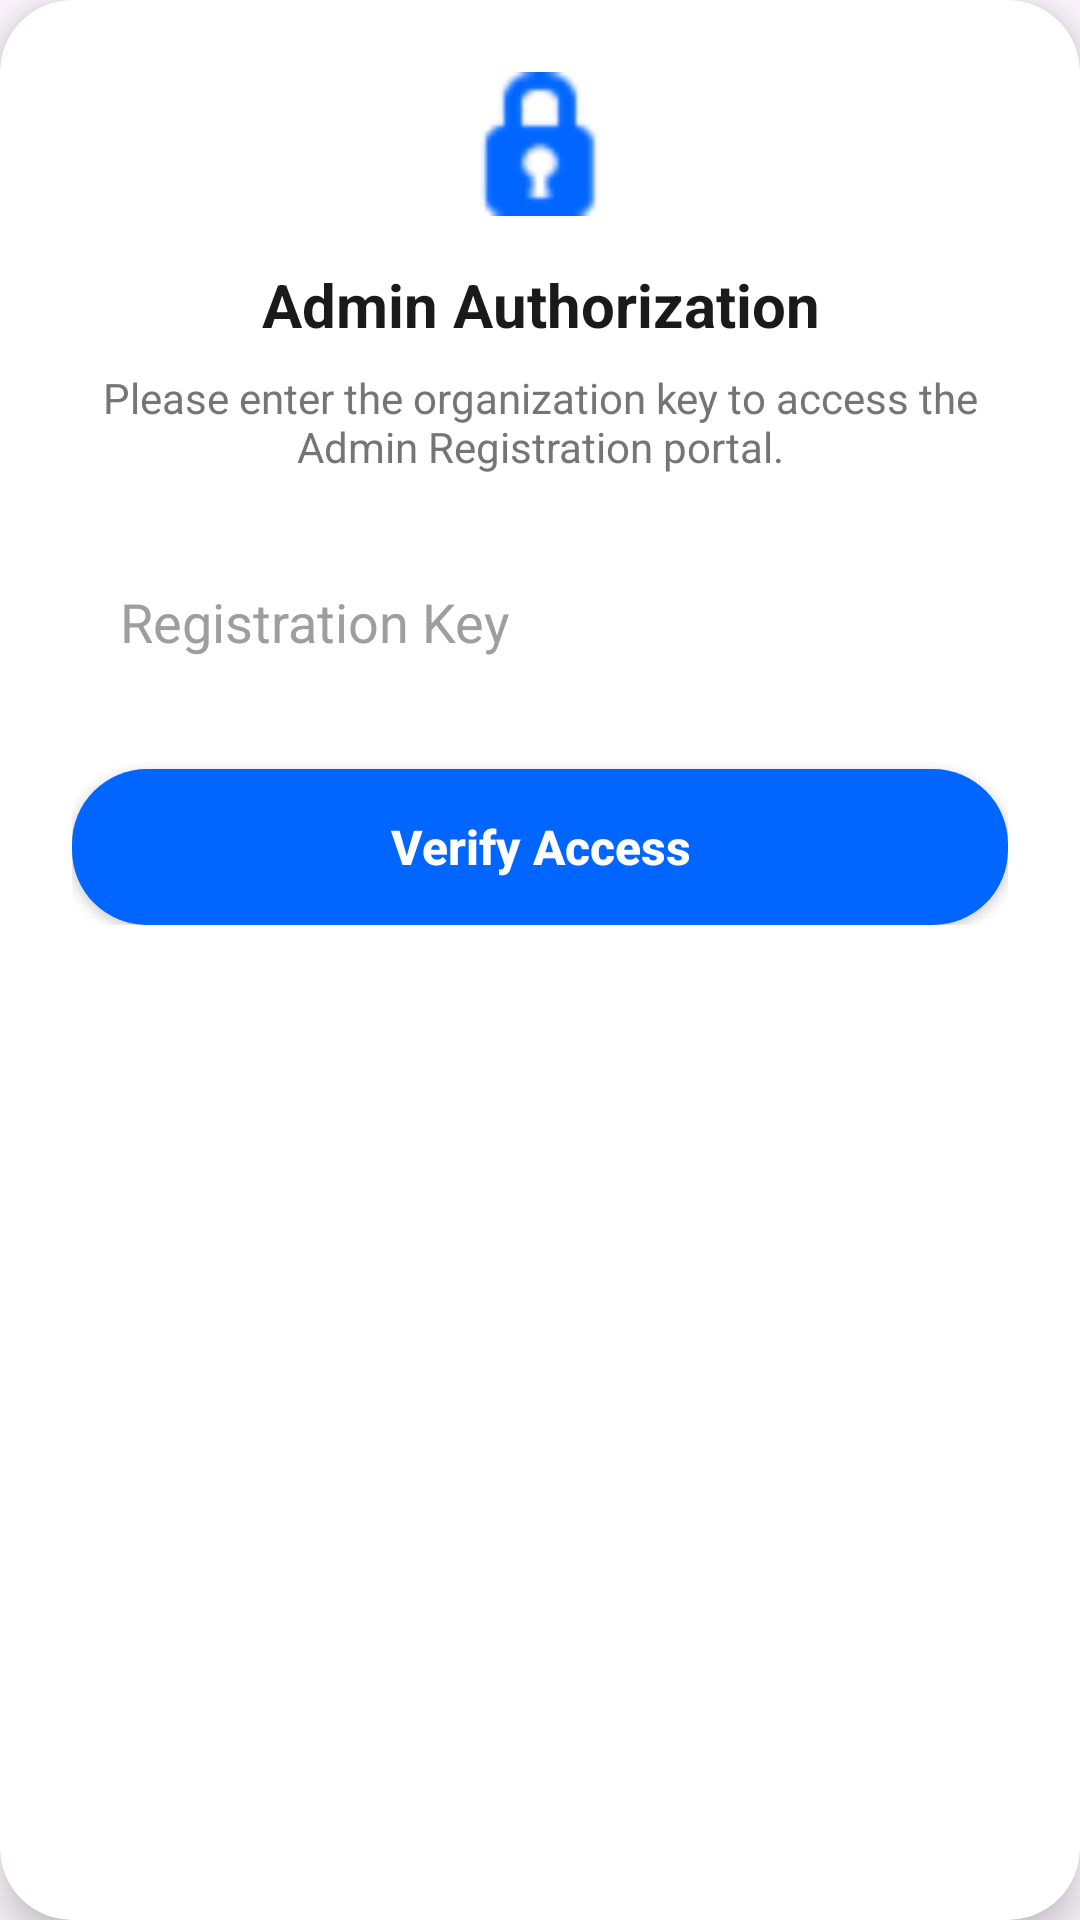

Where icons sit on this 1080w x 1920h app screen, as (x1=x1, y1=y1, x2=x2, y2=y2):
secure: (x1=482, y1=72, x2=596, y2=216)
